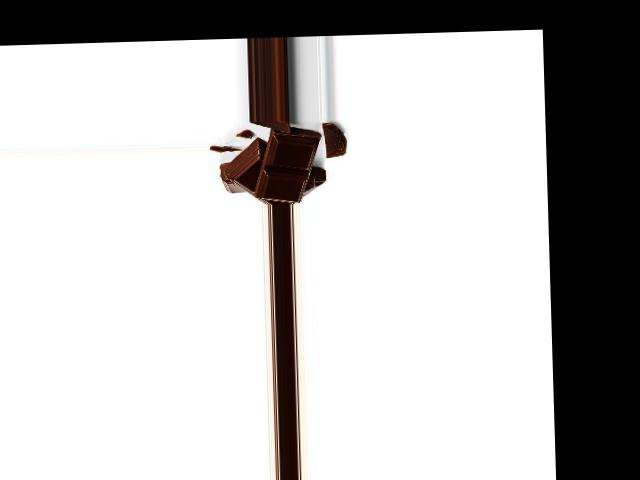chocolate: (251, 128, 320, 201)
